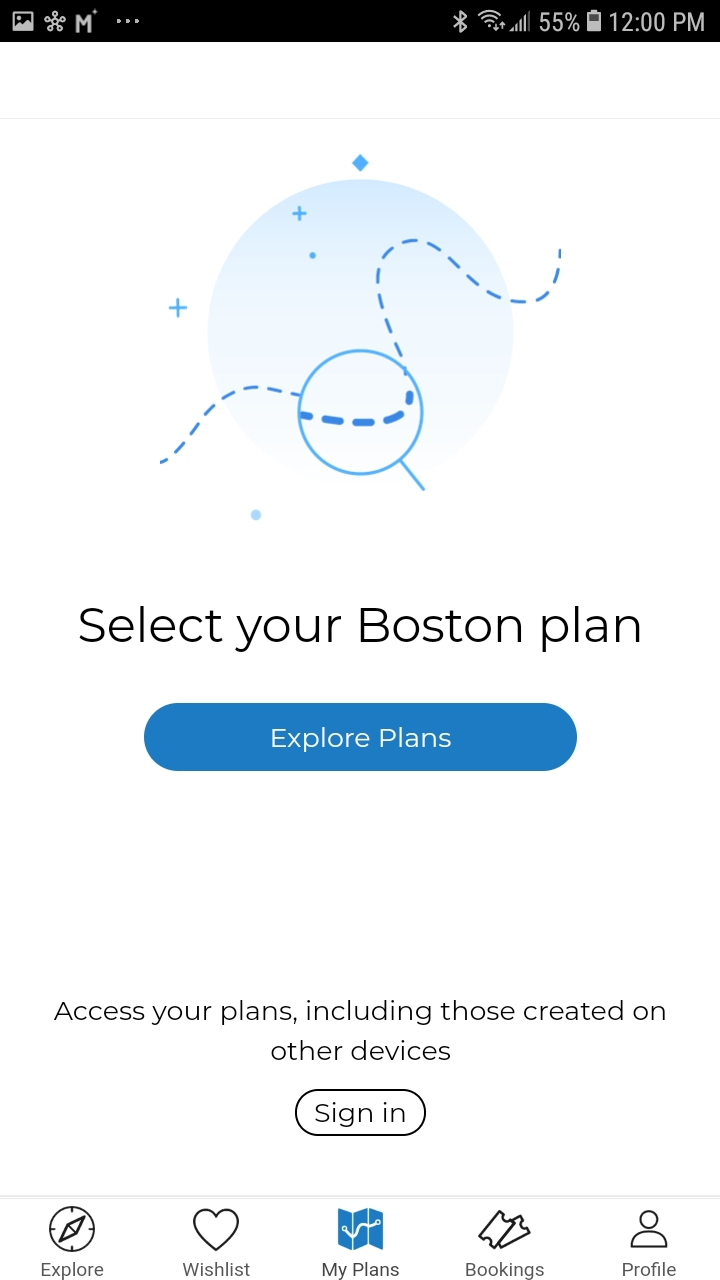Icon: (50, 1205, 97, 1253), (478, 1209, 532, 1250), (193, 1207, 241, 1251), (338, 1207, 384, 1251), (629, 1210, 668, 1249)
Image: (158, 153, 562, 522)
Text: (54, 999, 666, 1061), (80, 605, 641, 653), (465, 1261, 545, 1280), (322, 1261, 399, 1280), (42, 1261, 105, 1280), (183, 1261, 251, 1277), (622, 1261, 676, 1277)
TextButton: (144, 703, 578, 772), (295, 1089, 427, 1137)
UpperTaskBar: (1, 1, 720, 43)
